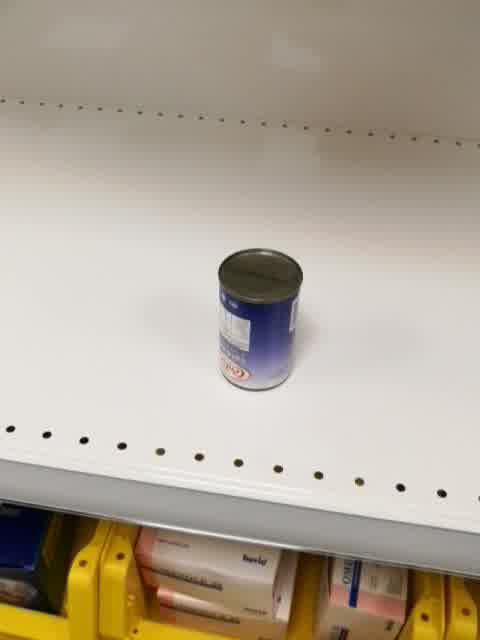sardine: (217, 247, 303, 392)
